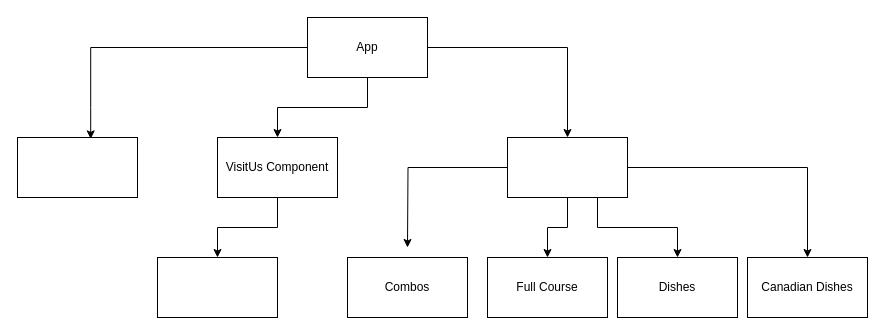
The diagram is 885 pixels wide and 335 high, and some of its shapes have lost their labels. Each missing label, with the box of its shape:
Landing Component: (16, 136, 138, 198)
Map Component: (156, 256, 278, 318)
Menu Component: (506, 136, 628, 198)
